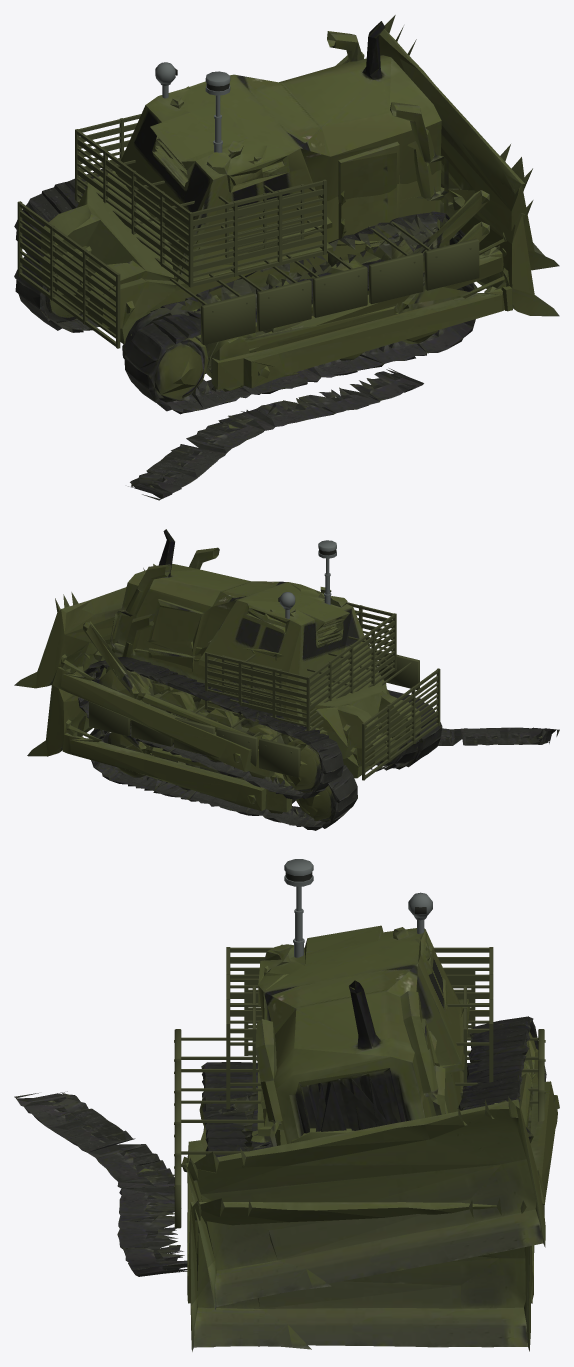
File: dozer_d9.glb
The picture shows the model from 3 angles, top to bottom: view 1: azimuth 30°, elevation 25°; view 2: azimuth 150°, elevation 25°; view 3: azimuth 270°, elevation 25°; orthographic projection. The views are drawn at different scales.
Parts seen in each view (by area): view 1: WRECK_hull_hull, hull_rubber, hull_hull, WRECK_hull_rubber, kit_armour_3_hull_hull, kit_armour_2_hull_hull_far, kit_armour_2_hull_hull, kit_armour_2_hull_hull_near, kit_armour_3_hull_hull_far, kit_armour_3_hull_hull_near, kit_sensors_3_hull_hull, kit_armour_1_hull_hull (+1 smaller); view 2: WRECK_hull_hull, WRECK_hull_rubber, hull_rubber, kit_armour_3_hull_hull, hull_hull, kit_armour_2_hull_hull_far, kit_armour_2_hull_hull, kit_armour_2_hull_hull_near, kit_armour_3_hull_hull_far, kit_armour_3_hull_hull_near, kit_sensors_3_hull_hull; view 3: WRECK_hull_hull, hull_hull, WRECK_hull_rubber, kit_armour_3_hull_hull, hull_rubber, kit_armour_2_hull_hull, kit_armour_2_hull_hull_far, kit_sensors_3_hull_hull, kit_armour_2_hull_hull_near, kit_armour_1_hull_hull, kit_sensors_2_hull_hull.
Part boxes in pixels (<box>): WRECK_hull_hull: <box>36,15,559,357</box>; hull_rubber: <box>14,240,516,414</box>; hull_hull: <box>33,141,559,381</box>; WRECK_hull_rubber: <box>14,59,511,500</box>; kit_armour_3_hull_hull: <box>17,201,479,348</box>; kit_armour_2_hull_hull_far: <box>77,123,323,271</box>; kit_armour_2_hull_hull: <box>75,114,326,287</box>; kit_armour_2_hull_hull_near: <box>77,126,323,277</box>; kit_armour_3_hull_hull_far: <box>20,211,115,331</box>; kit_armour_3_hull_hull_near: <box>20,213,115,338</box>; kit_sensors_3_hull_hull: <box>205,71,230,152</box>; kit_armour_1_hull_hull: <box>221,184,304,257</box>; WRECK_hull_hull: <box>14,529,411,776</box>; WRECK_hull_rubber: <box>48,626,559,799</box>; hull_rubber: <box>59,690,442,830</box>; kit_armour_3_hull_hull: <box>89,648,440,780</box>; hull_hull: <box>27,613,427,808</box>; kit_armour_2_hull_hull_far: <box>207,610,394,721</box>; kit_armour_2_hull_hull: <box>205,602,396,731</box>; kit_armour_2_hull_hull_near: <box>207,612,394,726</box>; kit_armour_3_hull_hull_far: <box>365,676,438,767</box>; kit_armour_3_hull_hull_near: <box>365,678,438,772</box>; kit_sensors_3_hull_hull: <box>318,540,336,604</box>; WRECK_hull_hull: <box>185,925,545,1310</box>; hull_hull: <box>188,978,532,1351</box>; WRECK_hull_rubber: <box>14,1016,559,1276</box>; kit_armour_3_hull_hull: <box>174,971,545,1228</box>; hull_rubber: <box>182,1062,534,1303</box>; kit_armour_2_hull_hull: <box>226,947,493,1109</box>; kit_armour_2_hull_hull_far: <box>230,957,489,1016</box>; kit_sensors_3_hull_hull: <box>284,859,313,957</box>; kit_armour_2_hull_hull_near: <box>230,959,489,1023</box>; kit_armour_1_hull_hull: <box>252,985,466,1091</box>; kit_sensors_2_hull_hull: <box>408,892,432,933</box>.
Bounding box in the file's own units: 8.2 × 4.61 × 6.73.
Materials: 1 (1 with a texture image).
